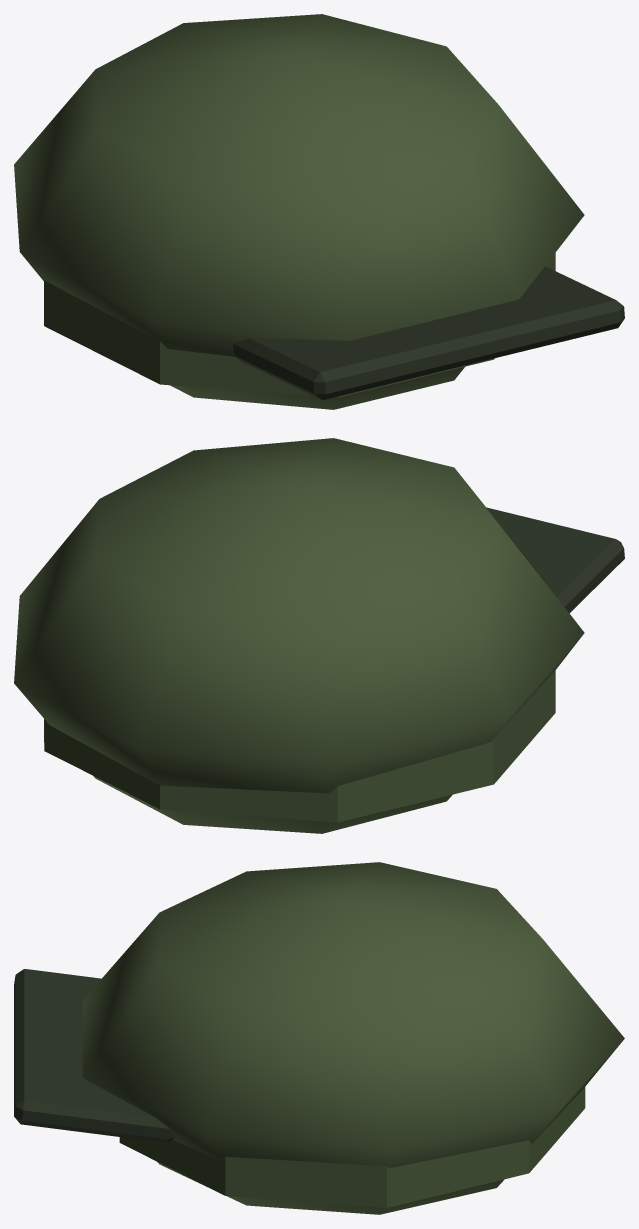
File: npc_cap_green.glb
The picture shows the model from 3 angles, top to bottom: view 1: azimuth 30°, elevation 25°; view 2: azimuth 150°, elevation 25°; view 3: azimuth 270°, elevation 25°; orthographic projection. The views are drawn at different scales.
Visible parts, largest first — view 1: part.npc_cap_green; view 2: part.npc_cap_green; view 3: part.npc_cap_green.
Part boxes in pixels (box(x1,y1,x2,y2)): part.npc_cap_green: box(14, 14, 624, 409); part.npc_cap_green: box(14, 438, 624, 833); part.npc_cap_green: box(14, 862, 624, 1214).
Bounding box in the file's own units: 0.2689 × 0.1612 × 0.3181.
